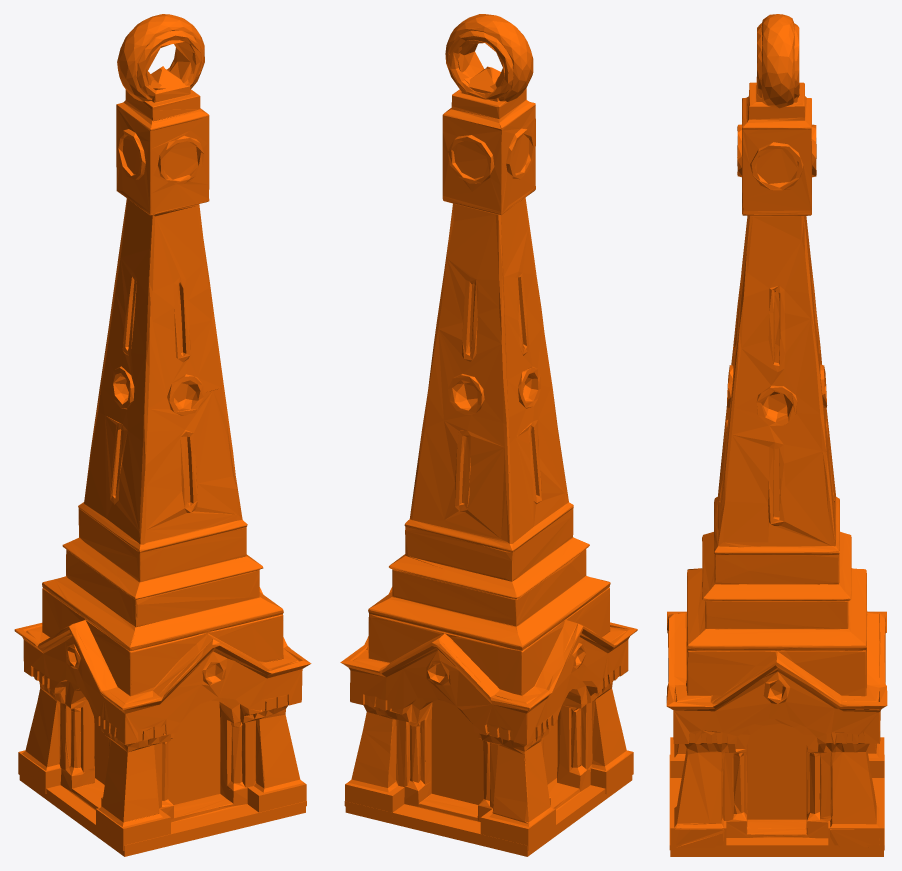
Rendered from chaveiro-relogio.glb.
3 renders of one model, left to right at view 1: azimuth 30°, elevation 25°; view 2: azimuth 150°, elevation 25°; view 3: azimuth 270°, elevation 25°, orthographic.
Visible parts, largest first — view 1: relogio; view 2: relogio; view 3: relogio.
Part boxes in pixels (x1,y1,x2,y2): relogio: (14,14,311,856); relogio: (340,14,637,856); relogio: (666,14,887,856).
Bounding box in the file's own units: 0.1614 × 0.6351 × 0.1604.
